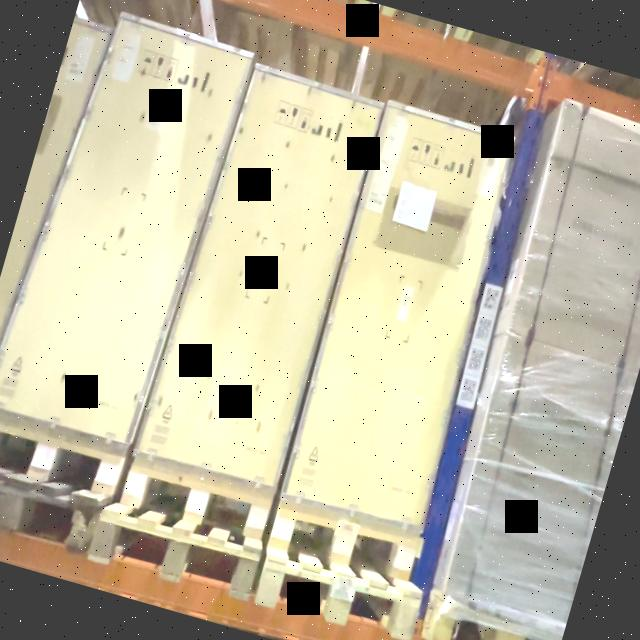box: (0, 16, 254, 447), (135, 66, 383, 491), (281, 100, 513, 530)
